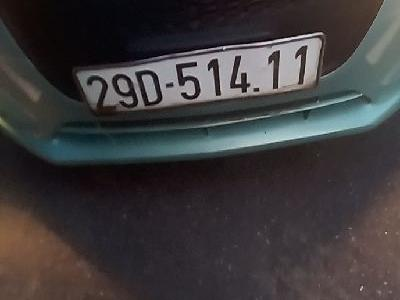number: (75, 33, 325, 116)
